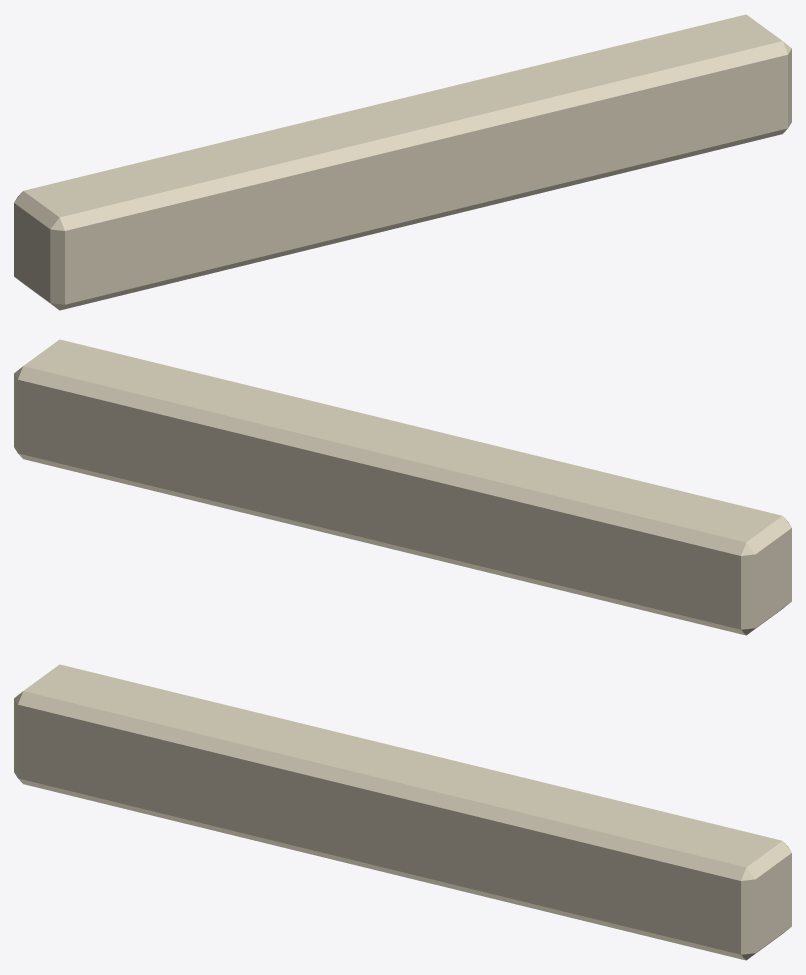
Rendered from Curb_2m.fbx.
3 views of the same model, one above another, from view 1: azimuth 30°, elevation 25°; view 2: azimuth 150°, elevation 25°; view 3: azimuth 330°, elevation 25° (orthographic).
Visible parts, largest first — view 1: Curb; view 2: Curb; view 3: Curb.
Part boxes in pixels (left/top/right/bottom): Curb: left=14, top=14, right=791, bottom=310; Curb: left=14, top=339, right=791, bottom=635; Curb: left=14, top=664, right=791, bottom=960.
Bounding box in the file's own units: 2 × 0.24 × 0.22.
